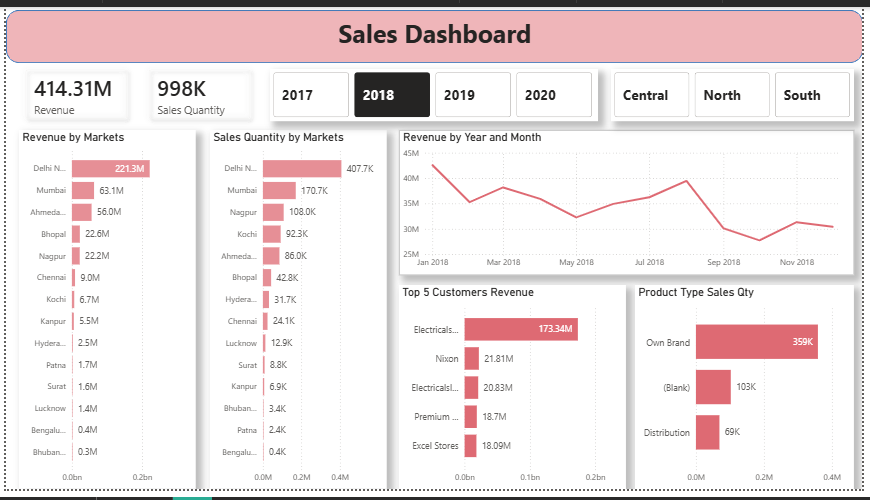

This screenshot's page, from the dashboard's own definition file:
{"tool":"powerbi","page":{"name":"Page 1","canvas":[1280,720],"ordinal":0},"visuals":[{"type":"cardVisual","fields":{"Data":["BaseMeasures.Revenue","BaseMeasures.Sales Quantity"]},"box":[0,64.2,394.4,132.9],"z":1000},{"type":"clusteredBarChart","title":"Revenue by Markets","fields":{"Y":["BaseMeasures.Revenue"],"Category":["public markets.markets_name"]},"box":[19.4,183.7,264.4,536.3],"z":2000},{"type":"clusteredBarChart","title":"Sales Quantity by Markets","fields":{"Y":["BaseMeasures.Sales Quantity"],"Category":["public markets.markets_name"]},"box":[304.7,183.7,264.4,536.3],"z":3000},{"type":"advancedSlicerVisual","fields":{"Values":["public date.year"]},"box":[394.4,92.6,490,77.7],"z":4000},{"type":"lineChart","fields":{"Y":["BaseMeasures.Revenue"],"Category":["public date.date.Variation.Date Hierarchy.Year","public date.date.Variation.Date Hierarchy.Month"]},"box":[587.1,183.7,679.7,216.6],"z":5000},{"type":"clusteredBarChart","title":"Top 5 Customers Revenue","fields":{"Y":["BaseMeasures.Revenue"],"Category":["public customers.custmer_name"]},"box":[587.1,415.3,339.1,304.7],"z":6000},{"type":"clusteredBarChart","title":" Product Type Sales Qty","fields":{"Y":["BaseMeasures.Sales Quantity"],"Category":["public products.product_type"]},"box":[939.6,415.3,327.1,304.7],"z":7000},{"type":"advancedSlicerVisual","fields":{"Values":["public markets.zone"]},"box":[903.7,92.6,363,77.7],"z":8000},{"type":"shape","box":[0,4.5,1280.2,79.2],"z":8750},{"type":"textbox","box":[491.5,9,366,83.7],"z":9500}]}

Visuals, with their boxes in screenshot pixels (x1, y1, x2, y2), scaled from the page's 1280x720 canvas onto the 870x500 screenshot:
cardVisual - BaseMeasures.Revenue x BaseMeasures.Sales Quantity: left=0, top=45, right=268, bottom=137
"Revenue by Markets" clusteredBarChart: left=13, top=128, right=193, bottom=499
"Sales Quantity by Markets" clusteredBarChart: left=207, top=128, right=387, bottom=499
advancedSlicerVisual - public date.year: left=268, top=64, right=601, bottom=118
lineChart - BaseMeasures.Revenue x public date.date.Variation.Date Hierarchy.Year: left=399, top=128, right=861, bottom=278
"Top 5 Customers Revenue" clusteredBarChart: left=399, top=288, right=630, bottom=499
" Product Type Sales Qty" clusteredBarChart: left=639, top=288, right=861, bottom=499
advancedSlicerVisual - public markets.zone: left=614, top=64, right=861, bottom=118
shape: left=0, top=3, right=869, bottom=58
textbox: left=334, top=6, right=583, bottom=64
